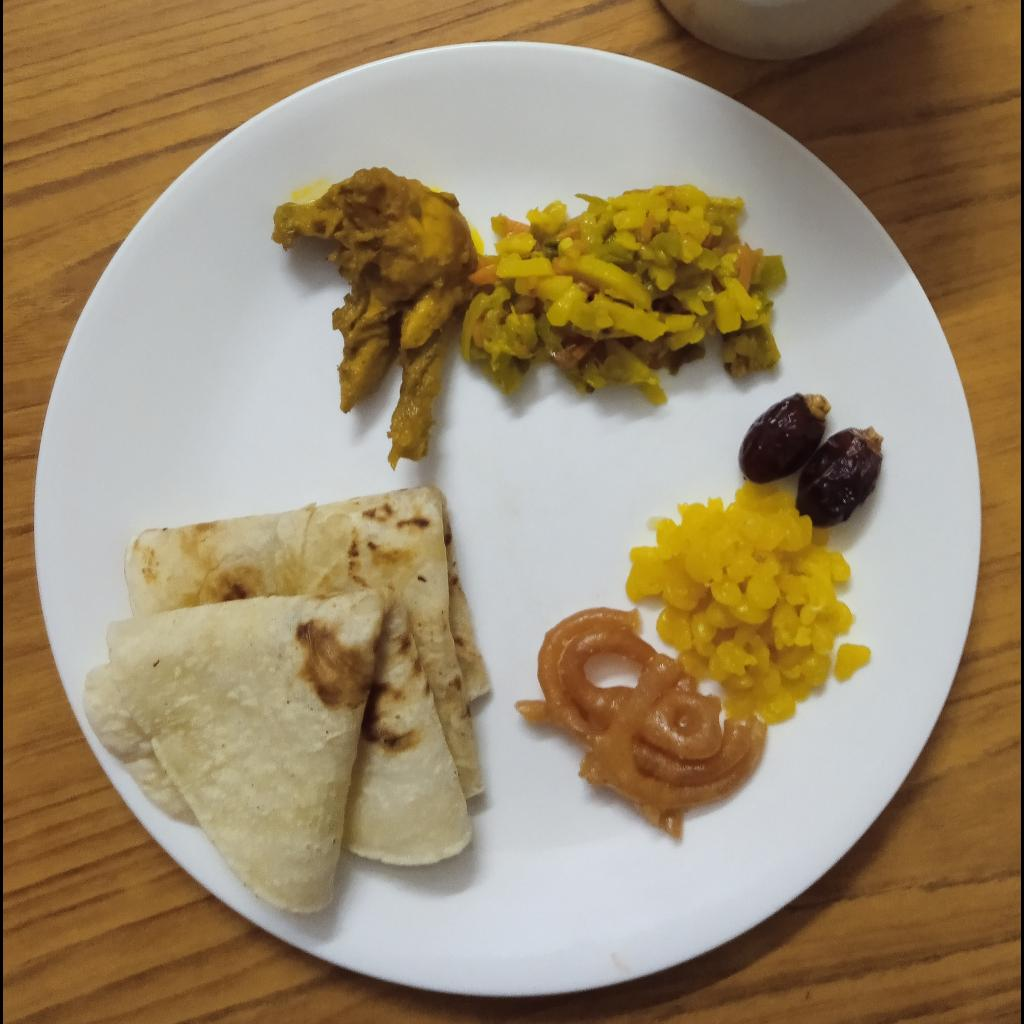burinda: (625, 480, 871, 725)
chicken: (271, 165, 475, 471)
dates: (738, 392, 884, 527)
jilapi: (514, 606, 769, 841)
ruti: (81, 482, 495, 915)
vegetable: (461, 181, 789, 405)
